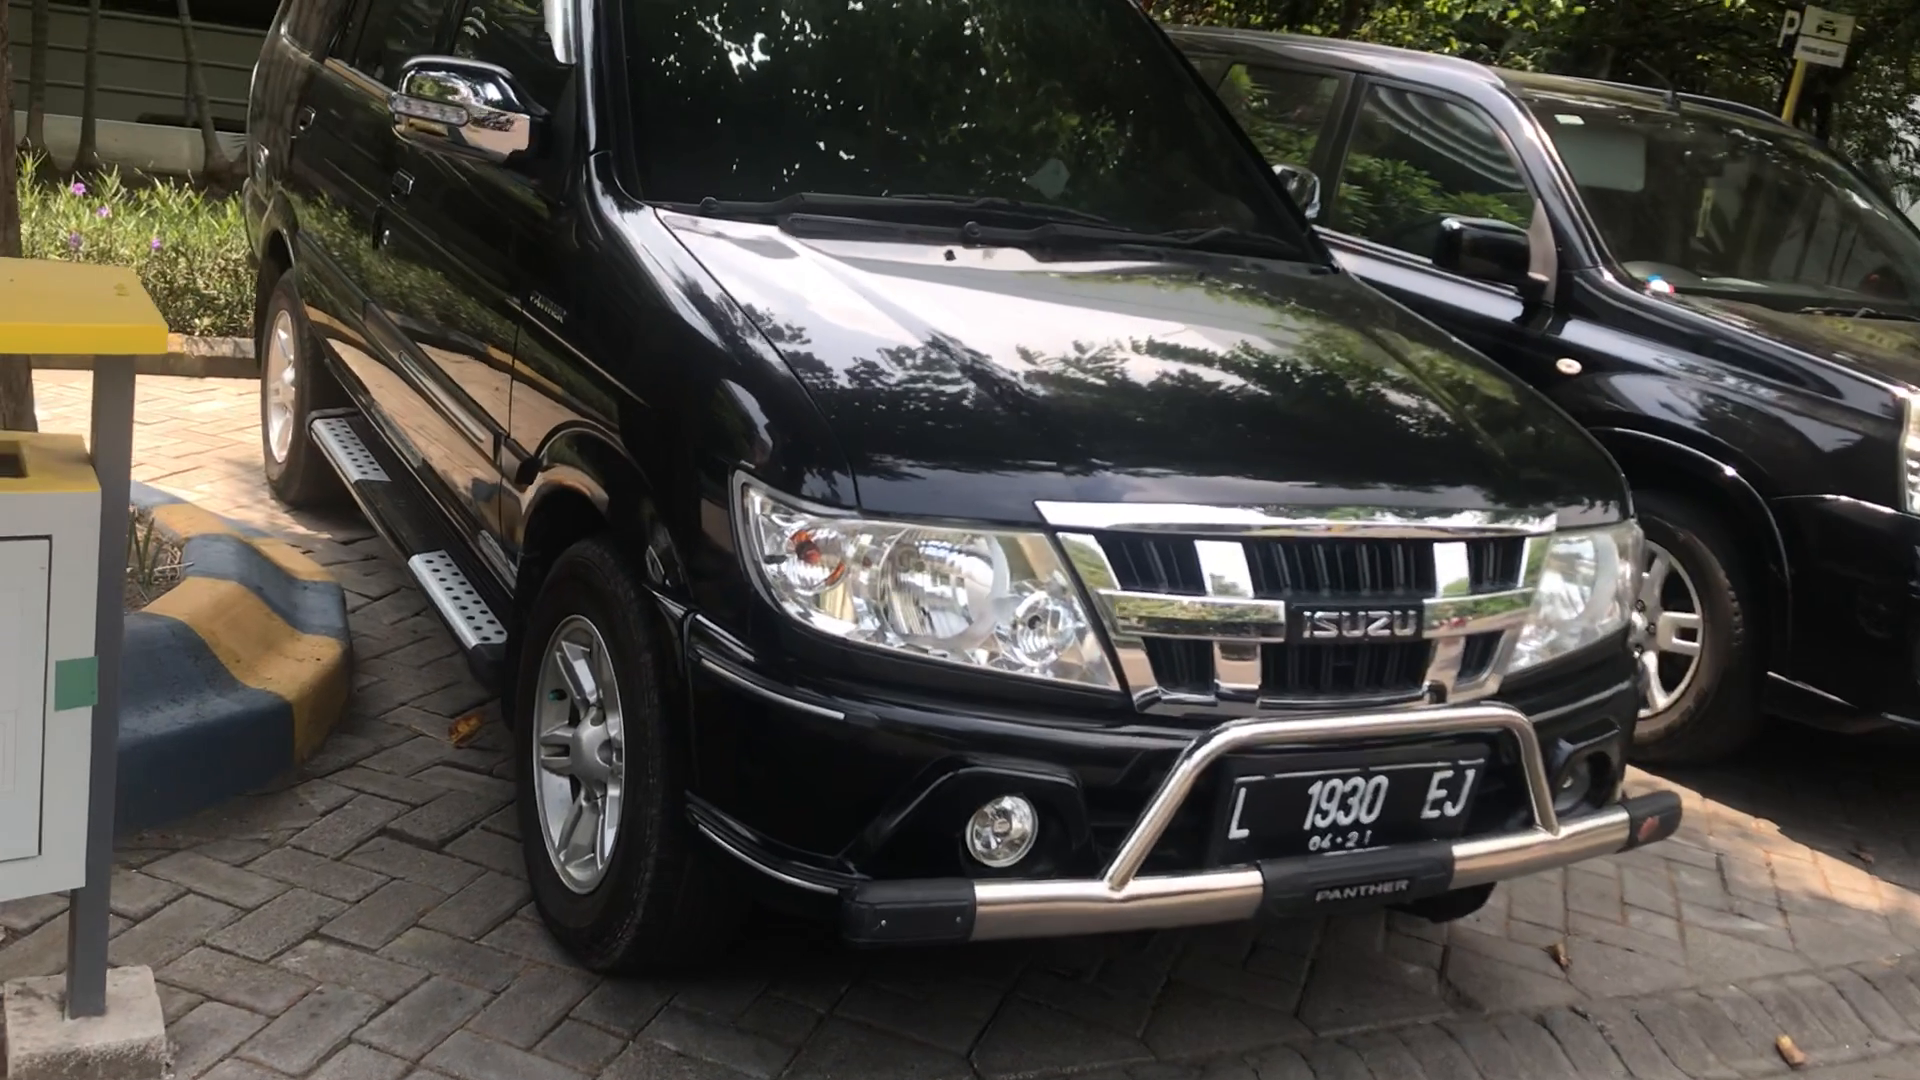plate: (1222, 765, 1482, 852)
